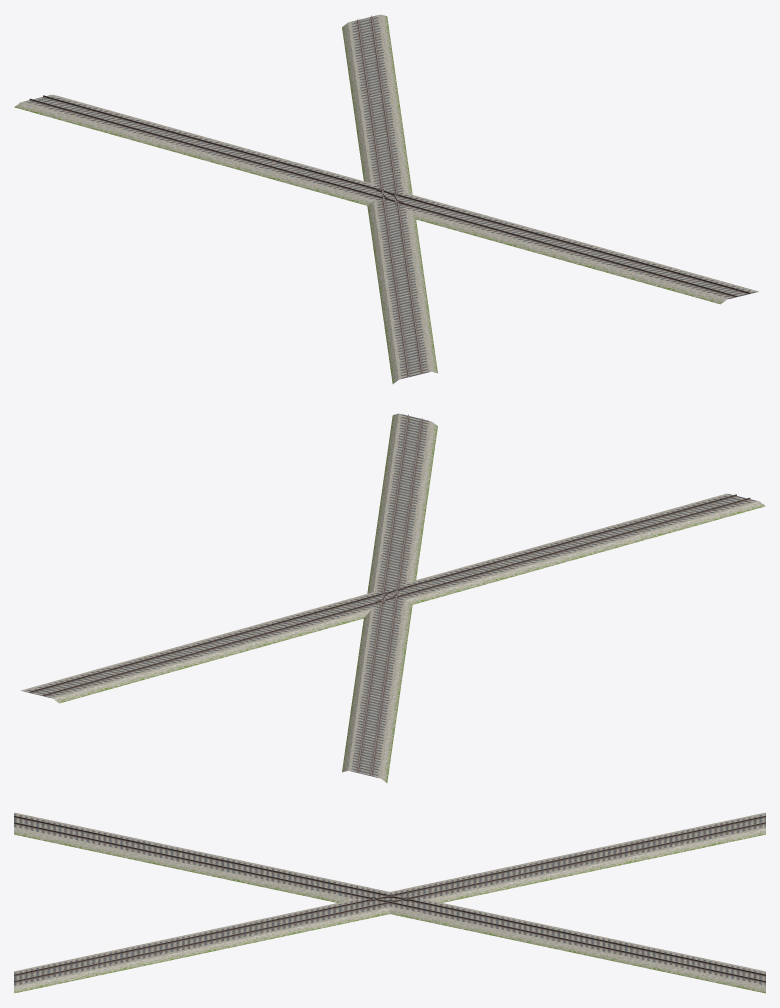
Rendered from Tr_FCrossing3.fbx.
3 renders of one model, top to bottom at view 1: azimuth 30°, elevation 25°; view 2: azimuth 150°, elevation 25°; view 3: azimuth 270°, elevation 25°, orthographic.
Visible parts, largest first — view 1: U3DMesh; view 2: U3DMesh; view 3: U3DMesh.
Boxes of the visible parts, box(x1,y1,x2,y2) form: U3DMesh: box(14, 14, 758, 383); U3DMesh: box(21, 413, 765, 782); U3DMesh: box(14, 812, 765, 993).
Bounding box in the file's own units: 36.42 × 0.4496 × 64.
